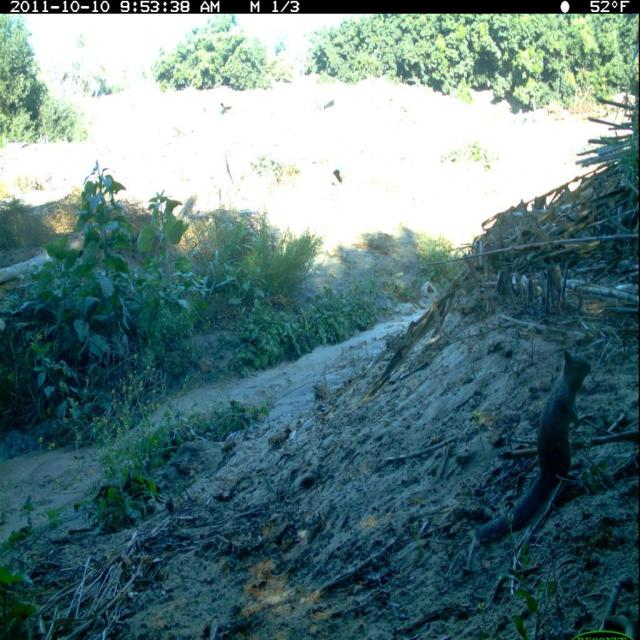squirrel: (472, 340, 596, 548)
